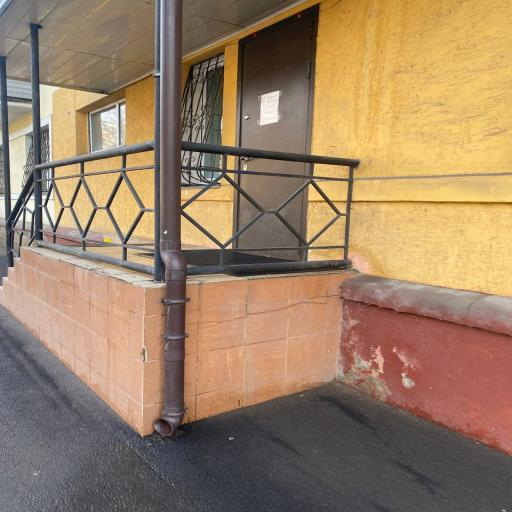child: (231, 2, 323, 260)
laptop: (0, 217, 117, 320)
